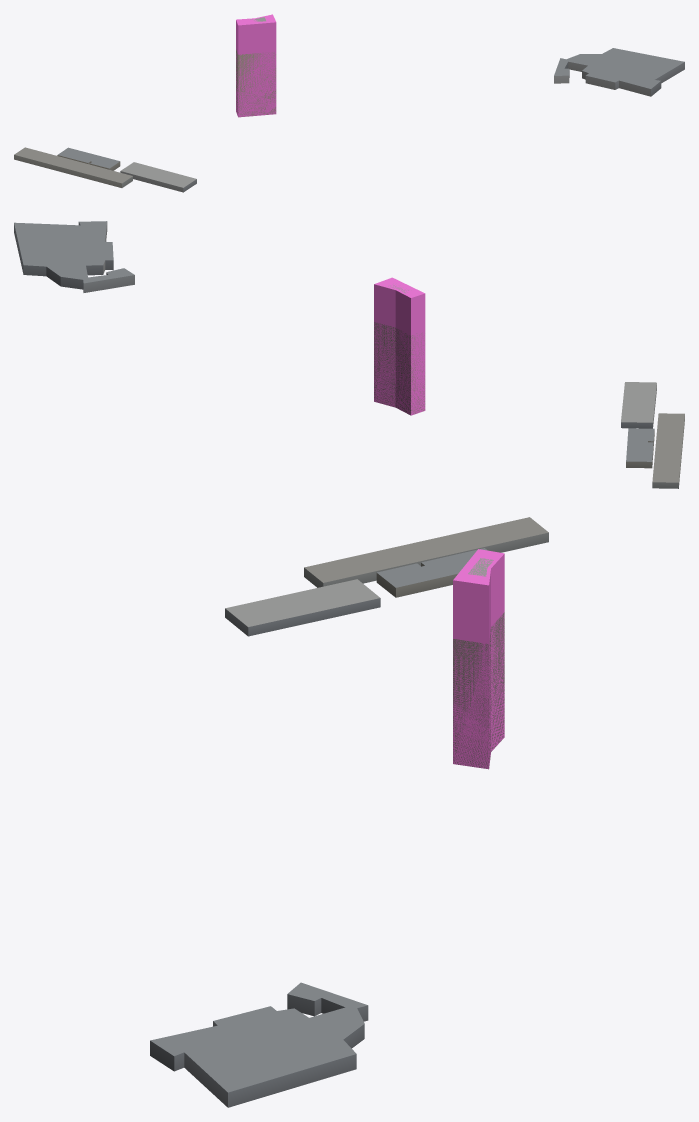
File: bld_15_2.fbx
3 views of the same model, one above another, from view 1: azimuth 30°, elevation 25°; view 2: azimuth 150°, elevation 25°; view 3: azimuth 270°, elevation 25° (orthographic). The views are drawn at different scales.
Visible parts, largest first — view 1: bld_15_2_LOD0, bld_15_2_COL; view 2: bld_15_2_LOD0, bld_15_2_COL; view 3: bld_15_2_LOD0, bld_15_2_COL.
Boxes of the visible parts, x1,y1,x2,y2 form: bld_15_2_LOD0: (14, 17, 684, 192); bld_15_2_COL: (236, 14, 276, 117); bld_15_2_LOD0: (14, 221, 684, 488); bld_15_2_COL: (374, 277, 425, 415); bld_15_2_LOD0: (150, 517, 548, 1107); bld_15_2_COL: (453, 549, 504, 769).
Size of what is drawn, in the model's own units: 826 by 122 by 240.
